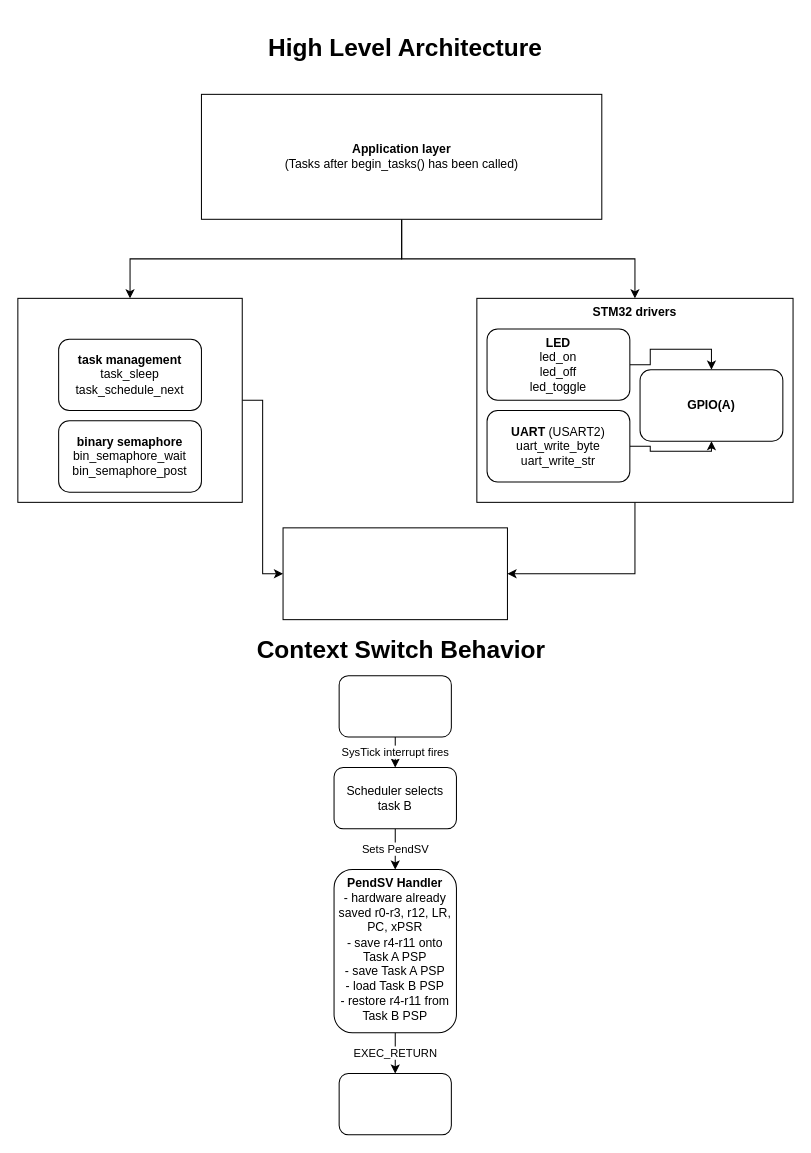
Some shapes in this 811 by 1153 pixel diagram are drawn without their labels. Each missing label, with the box of its shape:
ARM Cortex-M4 NVIC SysTick PendSV SVC: (282, 527, 507, 620)
Kernel internal context switching logic: (17, 297, 242, 502)
Task A running: (338, 675, 451, 737)
Task B running: (338, 1073, 451, 1135)
